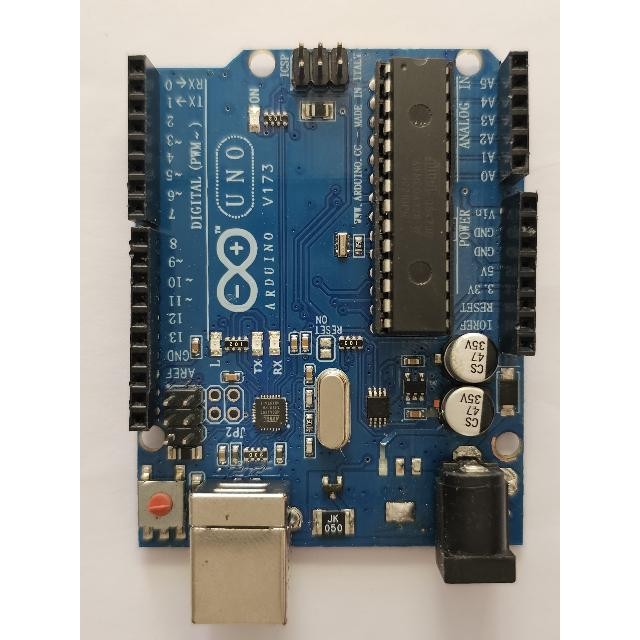missing_voltage_reg: (373, 452, 436, 536)
